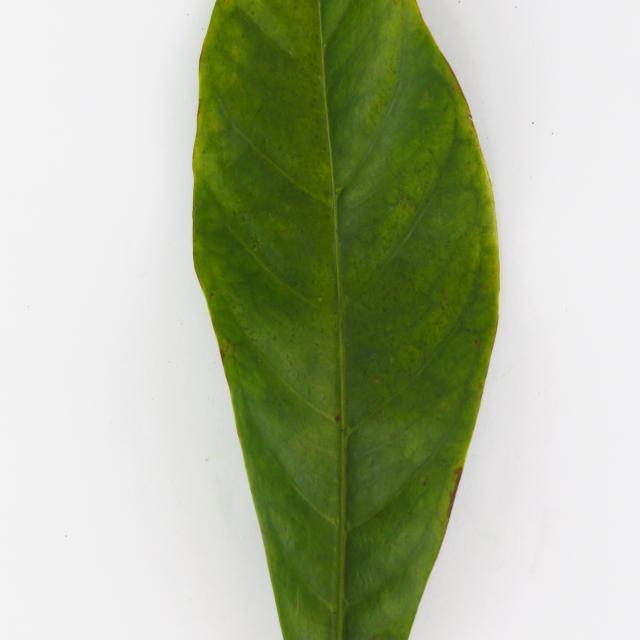DeficienciaNutricional-Manganeso: (194, 2, 499, 638)
